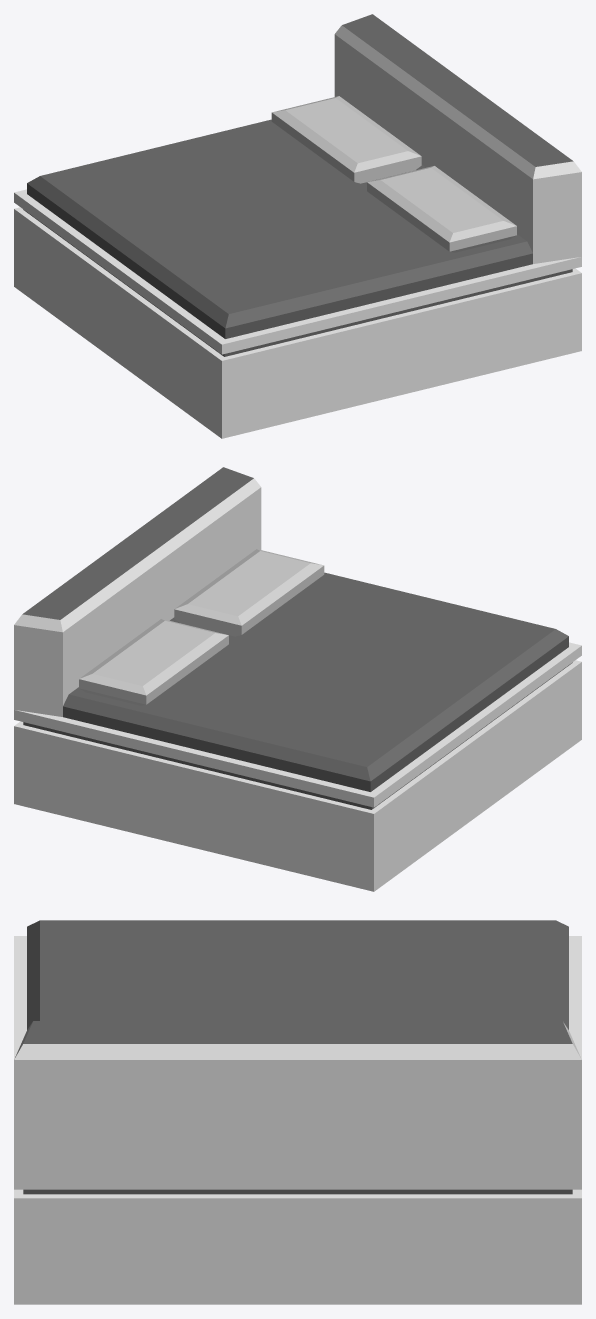
The model's file is Bed_Double.fbx.
3 renders of one model, top to bottom at view 1: azimuth 30°, elevation 25°; view 2: azimuth 150°, elevation 25°; view 3: azimuth 270°, elevation 25°, orthographic. The views are drawn at different scales.
Parts seen in each view (by area): view 1: Cube.001; view 2: Cube.001; view 3: Cube.001.
Part boxes in pixels (left/top/right/bottom): Cube.001: left=14, top=14, right=581, bottom=438; Cube.001: left=14, top=467, right=581, bottom=891; Cube.001: left=14, top=920, right=581, bottom=1304.
Bounding box in the file's own units: 200 × 100 × 200.
